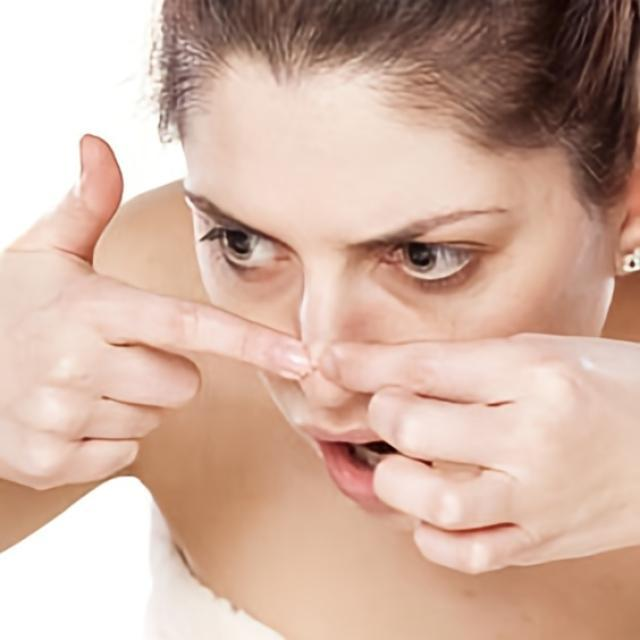anger: (180, 20, 612, 534)
